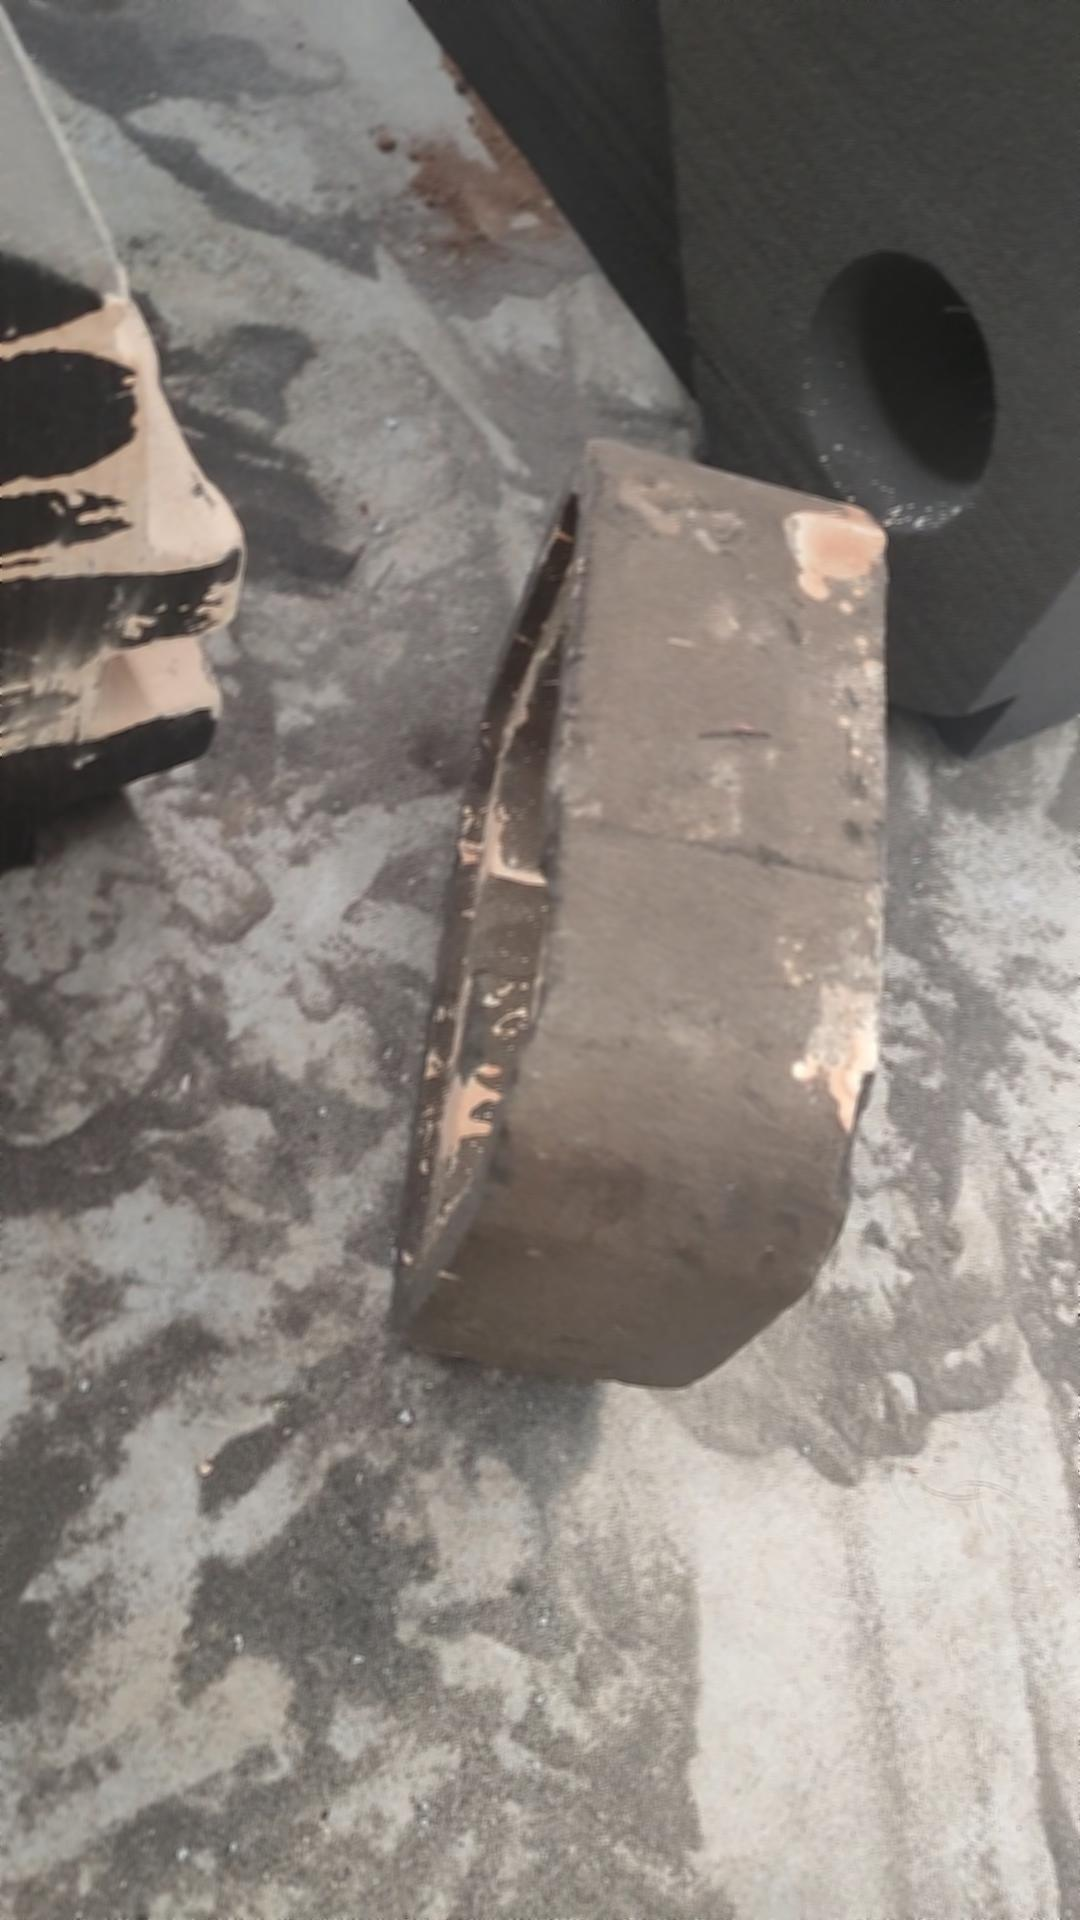pouring hole: (796, 249, 1000, 534)
